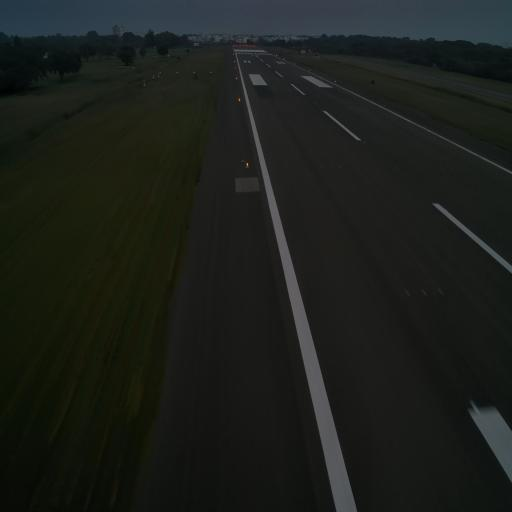off: (437, 281, 445, 301), (403, 286, 412, 300), (418, 286, 428, 298), (440, 165, 445, 174), (394, 164, 399, 171), (329, 163, 333, 171), (457, 165, 461, 173), (320, 163, 324, 169), (338, 164, 342, 170), (449, 165, 452, 172)
on: (244, 160, 250, 170)
